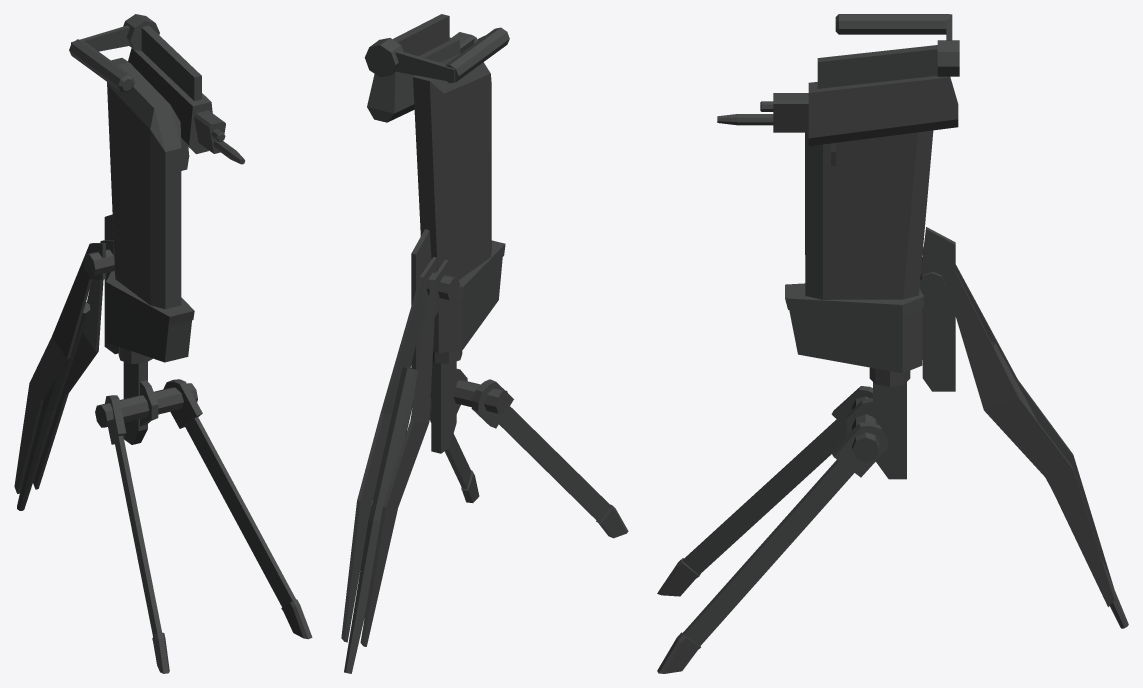
File: Turret.fbx
3 renders of one model, left to right at view 1: azimuth 30°, elevation 25°; view 2: azimuth 150°, elevation 25°; view 3: azimuth 270°, elevation 25°, orthographic. The views are drawn at different scales.
Parts seen in each view (by area): view 1: Turret_01, Turret_03; view 2: Turret_01, Turret_03; view 3: Turret_01, Turret_03.
Part boxes in pixels (x1,y1,x2,y2): Turret_01: (69,14,244,362); Turret_03: (14,214,312,673); Turret_01: (364,14,509,352); Turret_03: (341,229,628,673); Turret_01: (717,14,959,373); Turret_03: (657,227,1128,673).
Size of the model in its own units: 0.5636 by 1.93 by 1.35.
